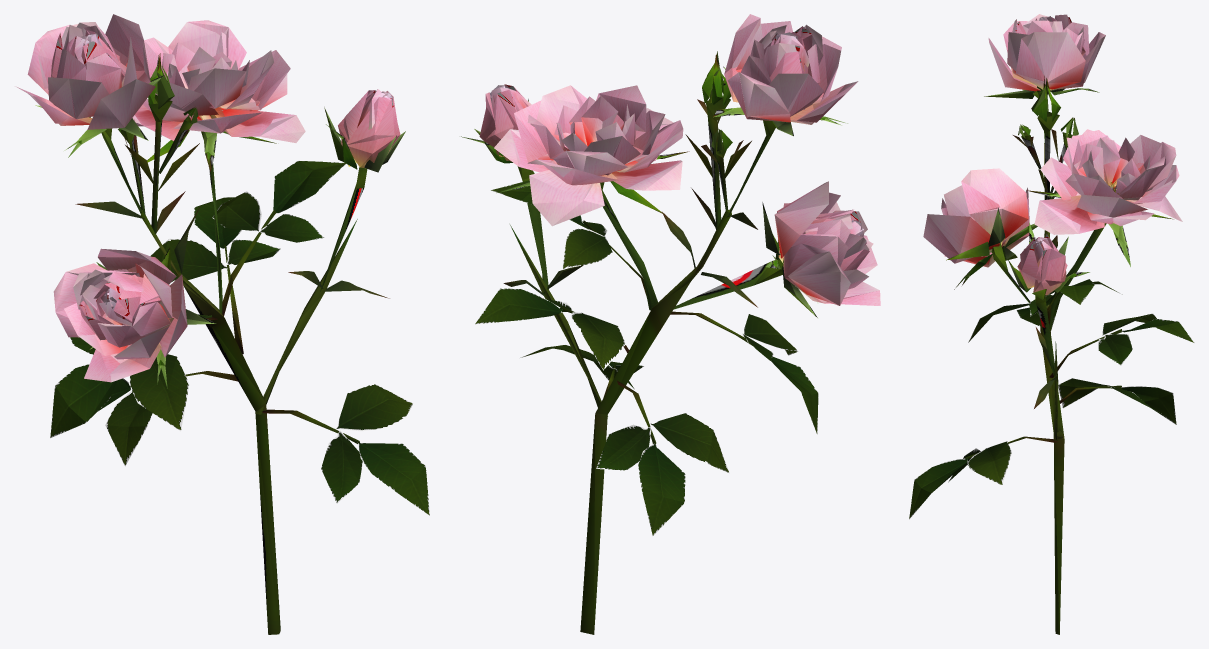
File: Rose_White.fbx
3 renders of one model, left to right at view 1: azimuth 30°, elevation 25°; view 2: azimuth 150°, elevation 25°; view 3: azimuth 270°, elevation 25°, orthographic. The views are drawn at different scales.
Visible parts, largest first — view 1: Rose_White; view 2: Rose_White; view 3: Rose_White.
Part boxes in pixels (x1,y1,x2,y2): Rose_White: [15, 14, 429, 634]; Rose_White: [461, 14, 880, 634]; Rose_White: [909, 14, 1194, 634].
Bounding box in the file's own units: 4.71 × 7.66 × 3.67.
